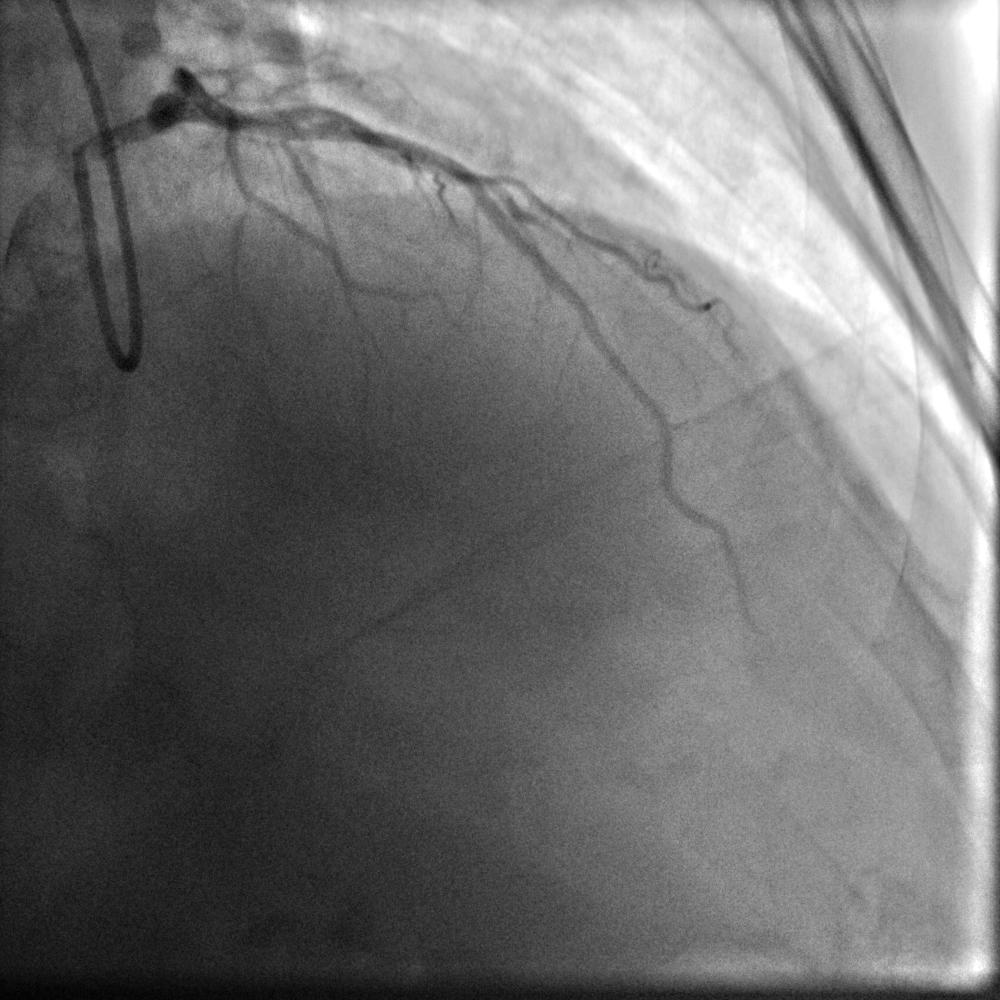Stenosis: (355, 116, 380, 150)
